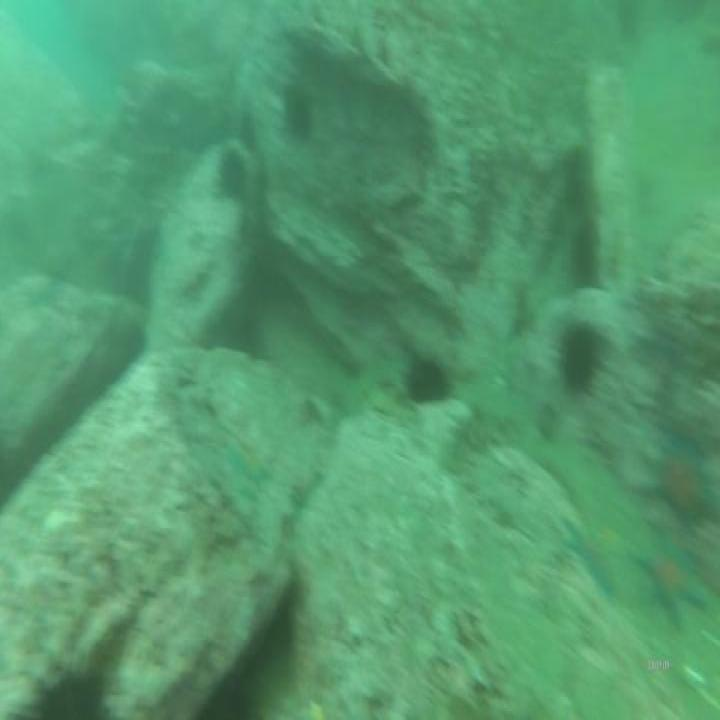echinus: (560, 318, 602, 400), (402, 347, 455, 409), (213, 144, 250, 204), (283, 87, 317, 146)
starfish: (640, 533, 709, 635), (653, 428, 714, 522)
